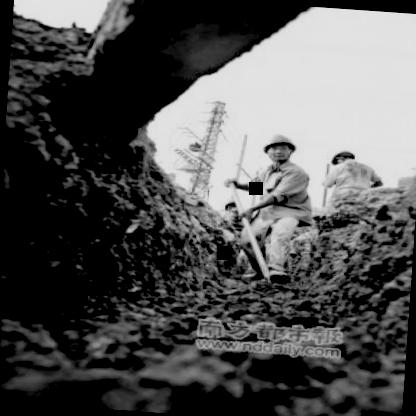helmet: (259, 128, 299, 168), (326, 142, 364, 176)
